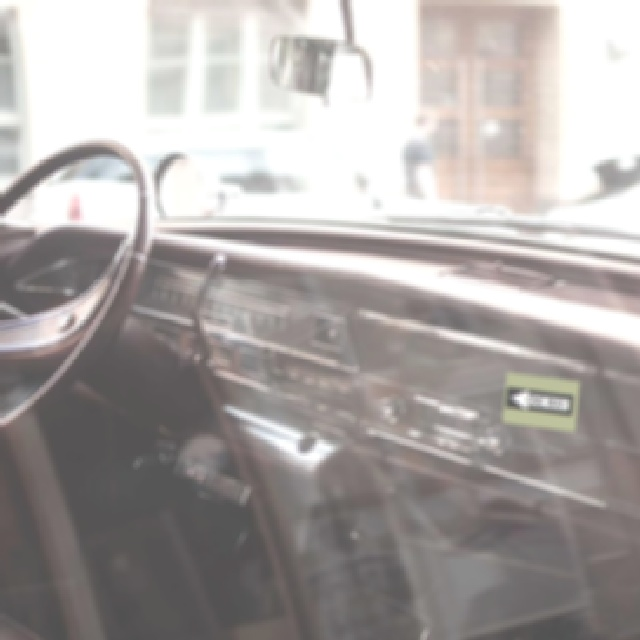ONE_WAY_ left: (504, 386, 572, 415)
